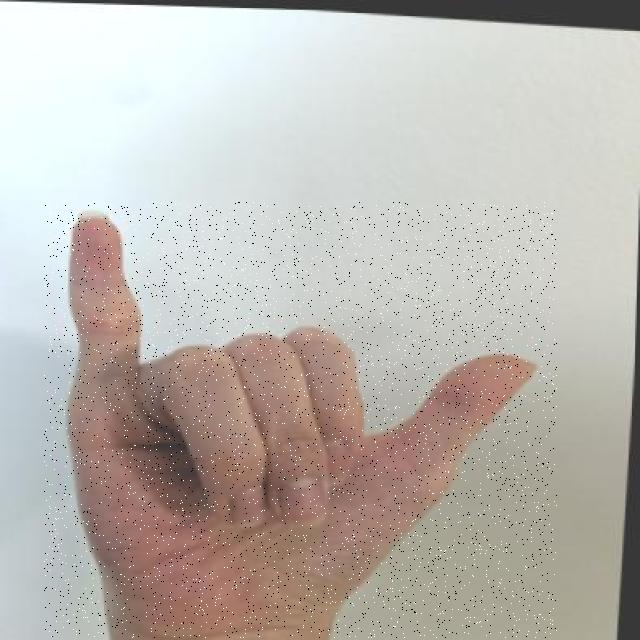Y: (44, 202, 557, 638)
